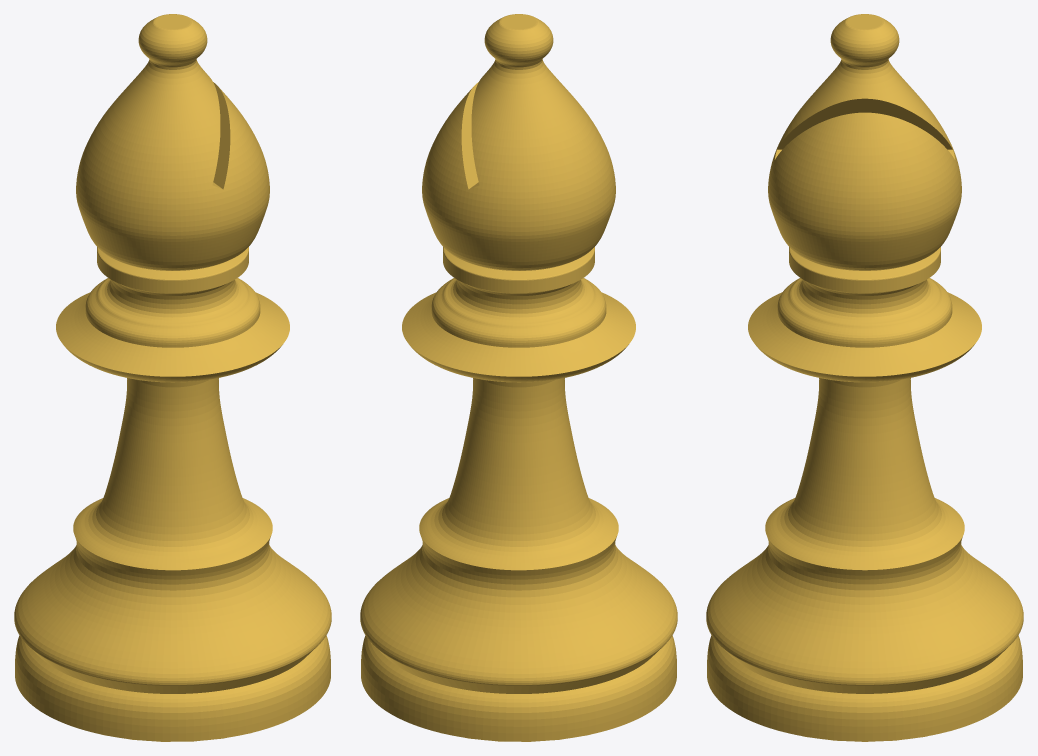
The model's file is gold_bishop.fbx.
3 views of the same model, side by side, from view 1: azimuth 30°, elevation 25°; view 2: azimuth 150°, elevation 25°; view 3: azimuth 270°, elevation 25° (orthographic).
Parts seen in each view (by area): view 1: Cylinder; view 2: Cylinder; view 3: Cylinder.
Part boxes in pixels (x1=…): Cylinder: x1=14, y1=14, x2=331, y2=741; Cylinder: x1=360, y1=14, x2=677, y2=741; Cylinder: x1=706, y1=14, x2=1023, y2=741.
Size of the model in its own units: 4.44 by 10.12 by 4.44.
